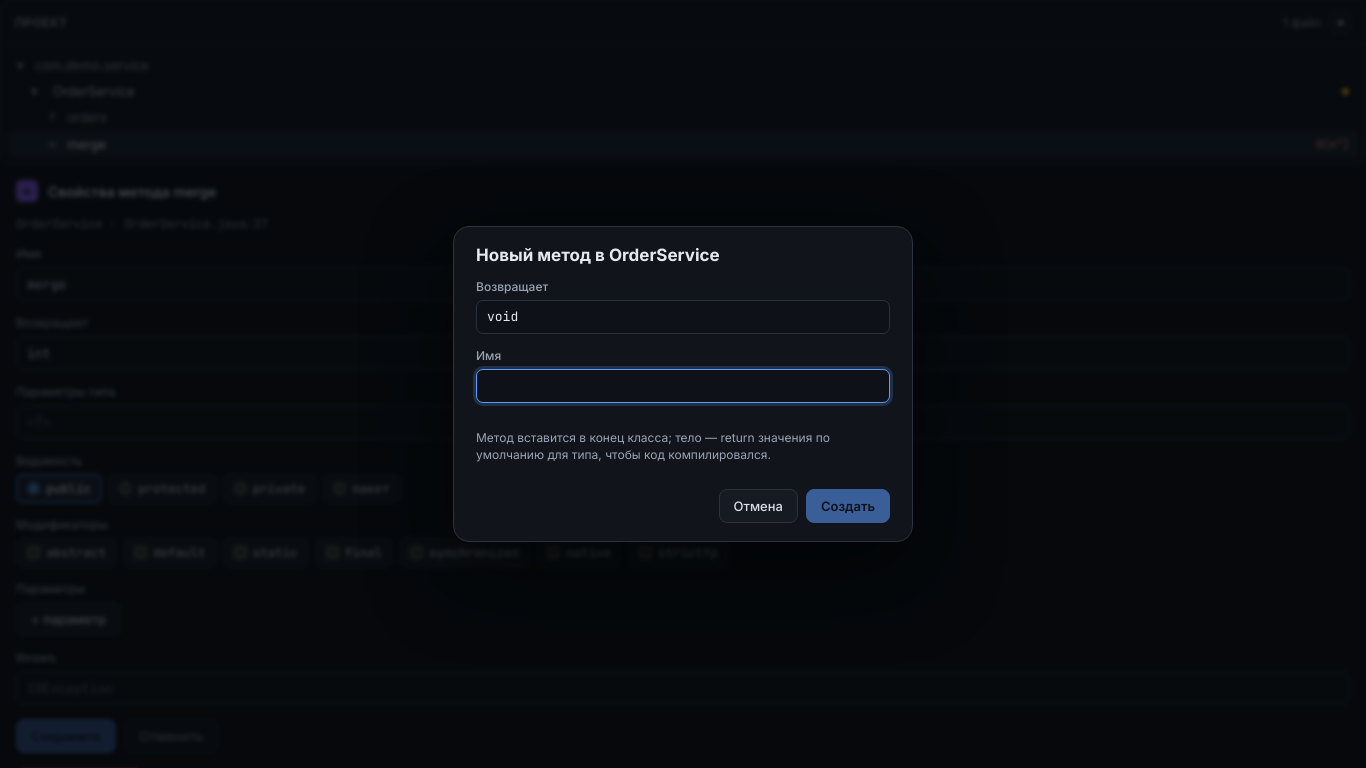
Test case: формы структуры (FE-10) › команда «Новый метод» → диалог → метод с return перед закрывающей «}» класса, он выбирается
Expected: the list with test id "project-tree" is shown, 7,52 -> 1359,157
Replace the text in the field labelled "Возвращает" with "boolean" at (683, 317), box 476,300 -> 890,334
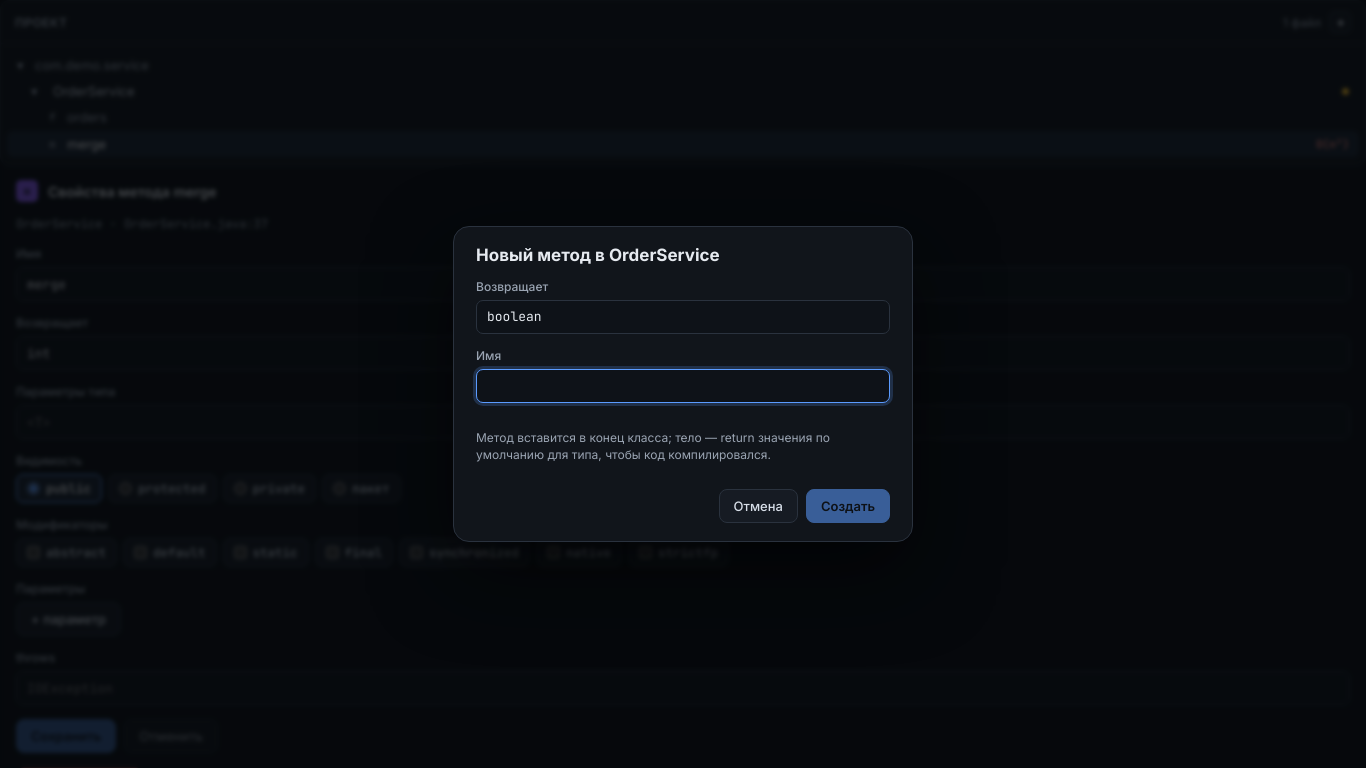
Type "isEmpty" into the field labelled "Имя" at (683, 386), box 476,369 -> 890,403
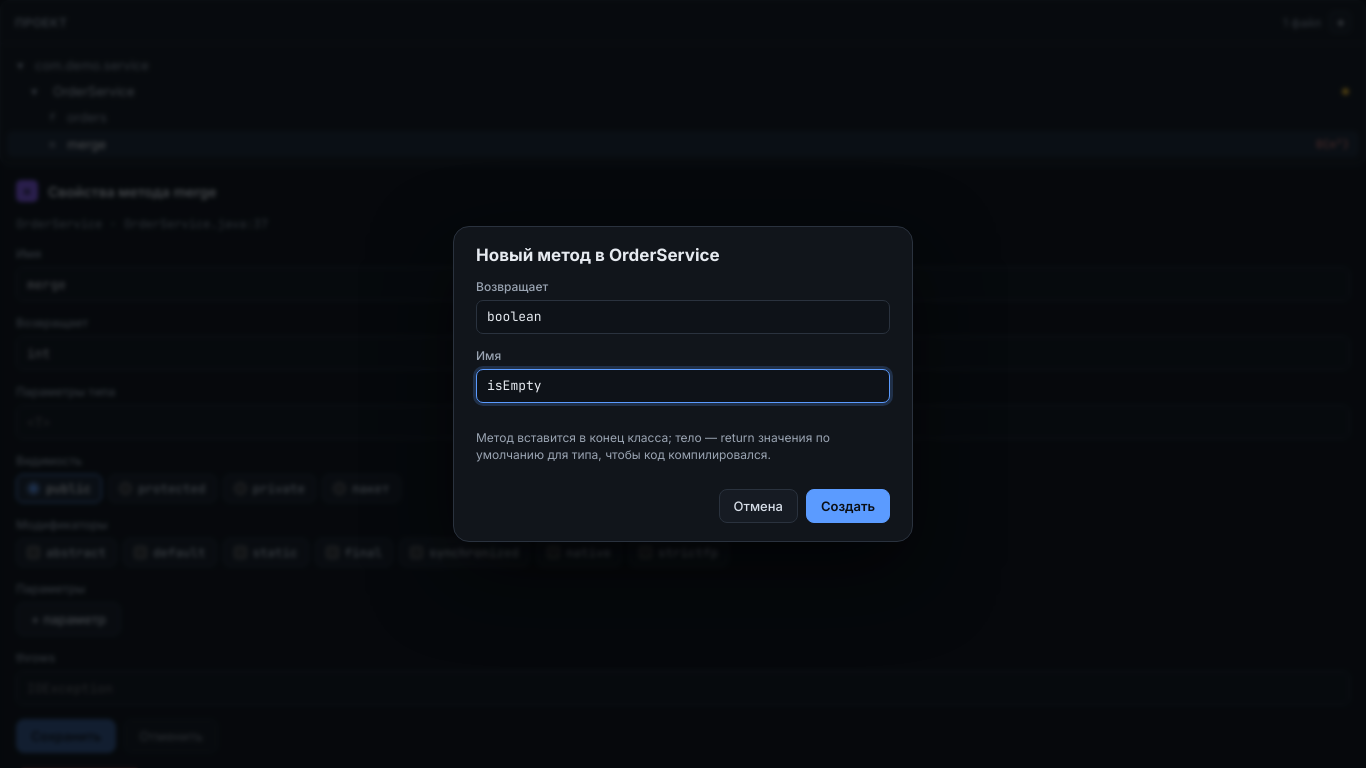
Click the button "Создать" at (848, 506), box 806,489 -> 890,523
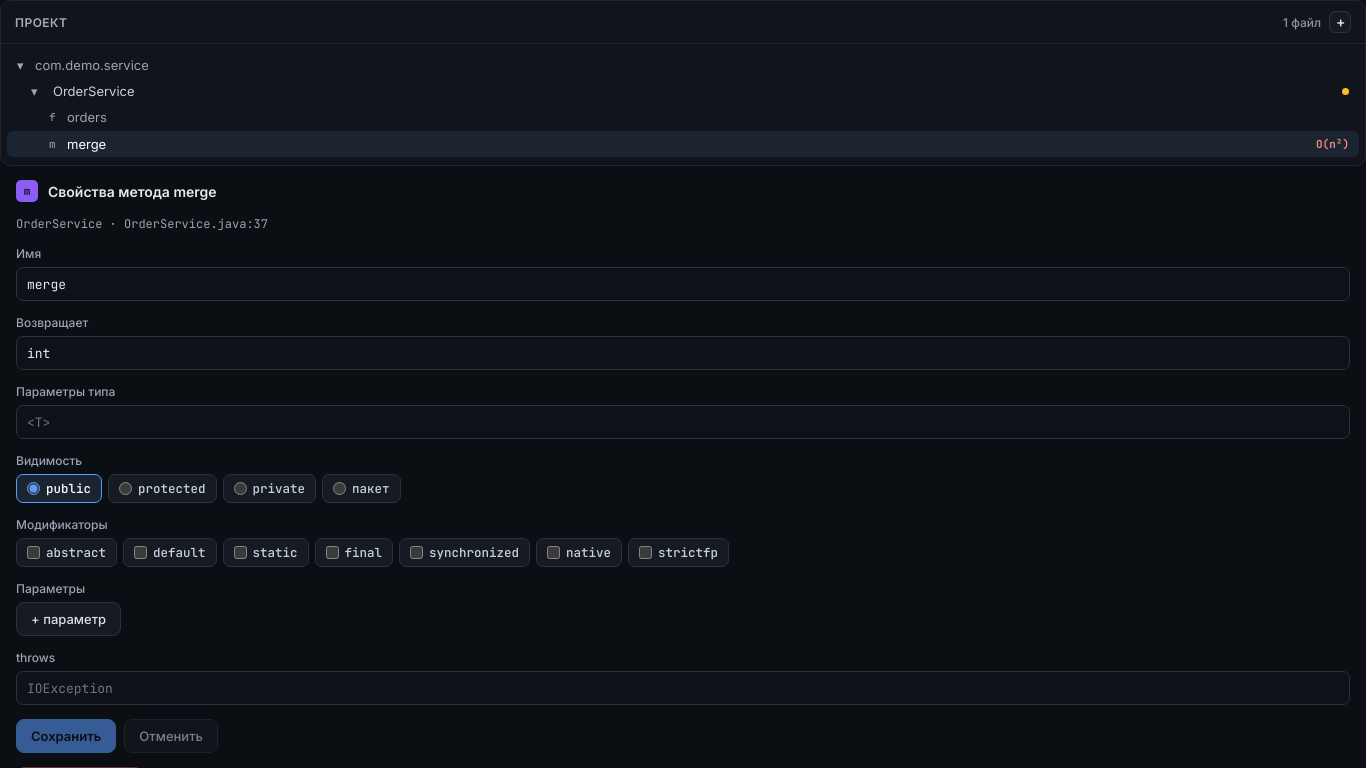
Now the dialog is gone
